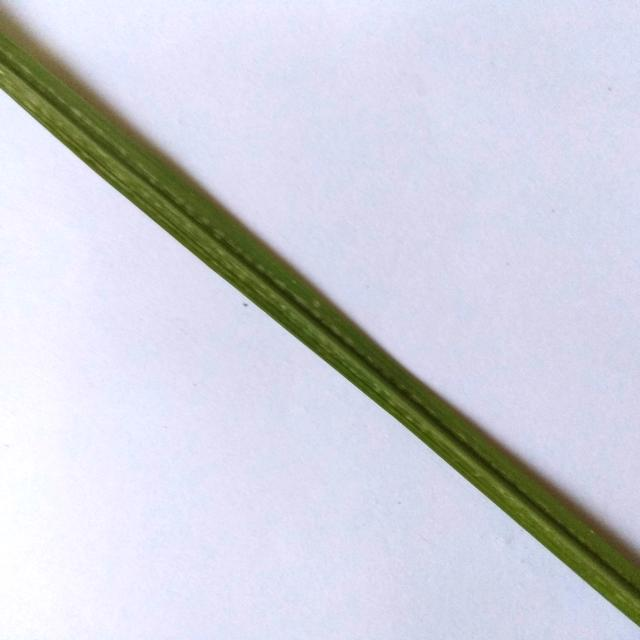Rice_Healthy: (0, 13, 640, 624)
